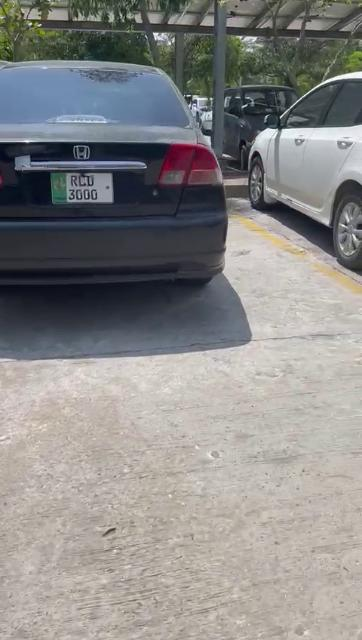plate: (52, 170, 114, 203)
